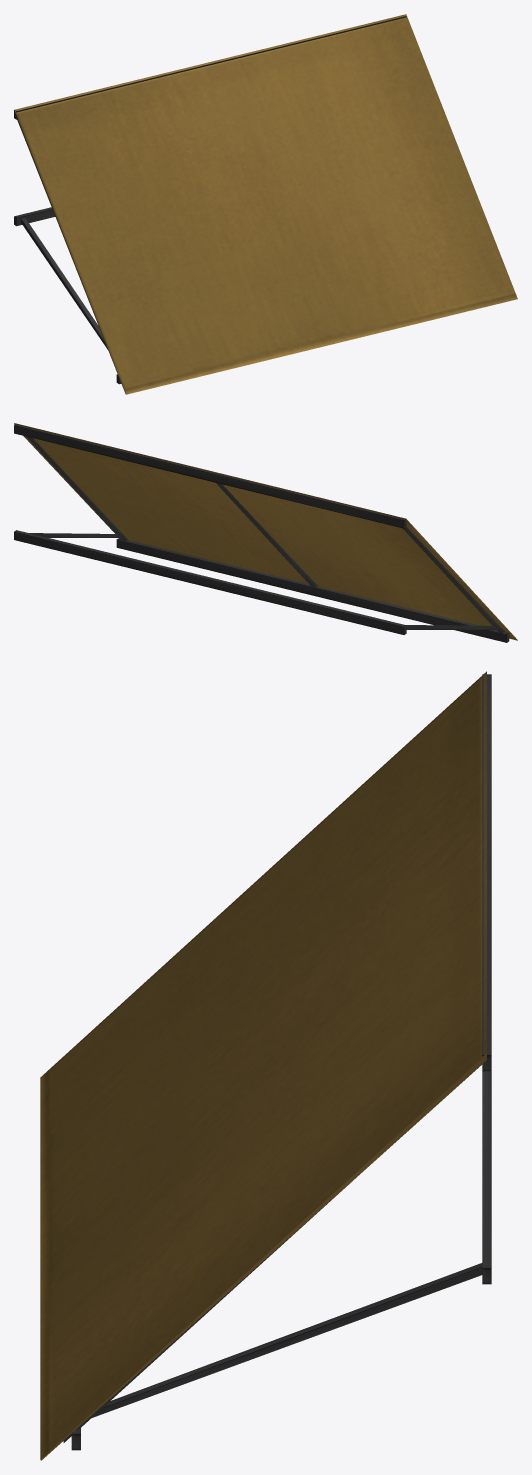
Rendered from ds_canopy_3_C.FBX.
The picture shows the model from 3 angles, top to bottom: view 1: azimuth 30°, elevation 25°; view 2: azimuth 150°, elevation 25°; view 3: azimuth 270°, elevation 25°; orthographic projection. The views are drawn at different scales.
Parts seen in each view (by area): view 1: ds_canopy_3_C; view 2: ds_canopy_3_C; view 3: ds_canopy_3_C.
Part boxes in pixels (x1,y1,x2,y2): ds_canopy_3_C: [14, 14, 517, 394]; ds_canopy_3_C: [14, 423, 517, 642]; ds_canopy_3_C: [40, 671, 491, 1460].
Bounding box in the file's own units: 10.08 × 5.03 × 5.
